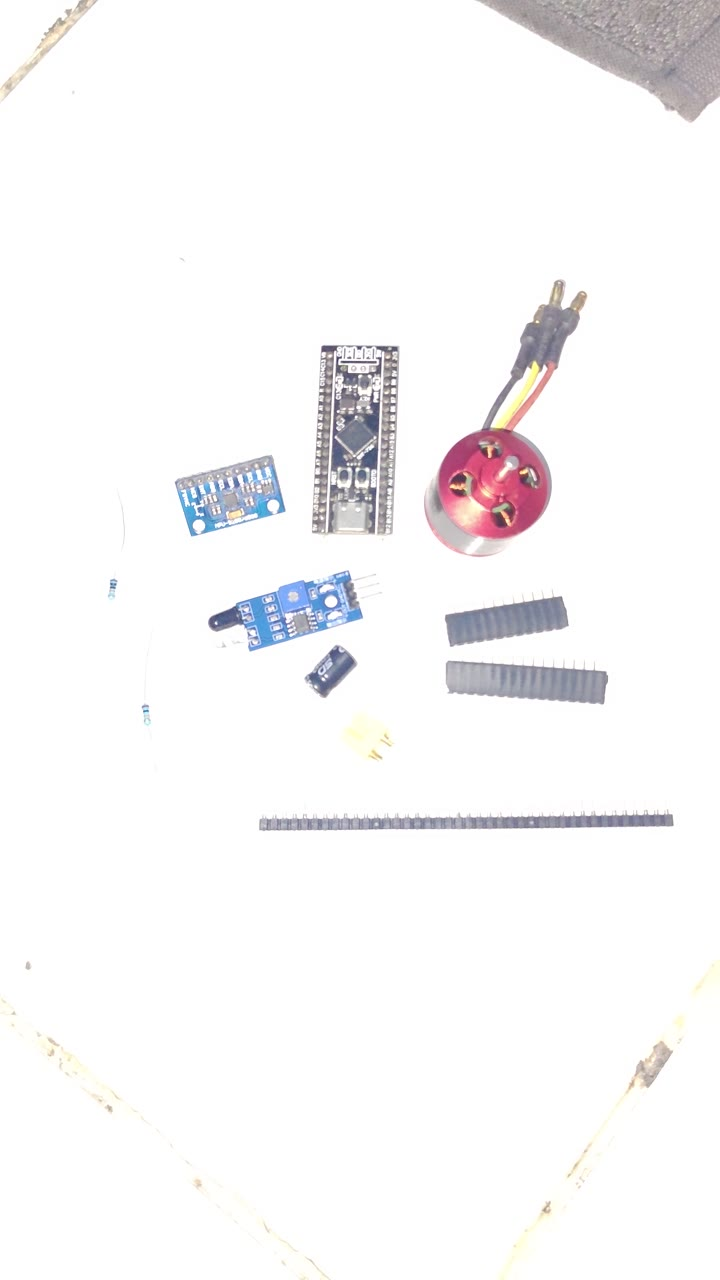bldc_motor: (417, 353, 559, 560)
elco_capacitor: (267, 662, 336, 735)
ir_sensor: (201, 585, 360, 686)
mpu6500: (170, 464, 261, 539)
pin_header: (439, 594, 562, 647), (240, 813, 661, 828), (493, 667, 593, 703)
resistor: (21, 506, 107, 730), (127, 701, 161, 735)
stm32f4: (274, 354, 375, 570)
xt30_female: (305, 722, 382, 798)
